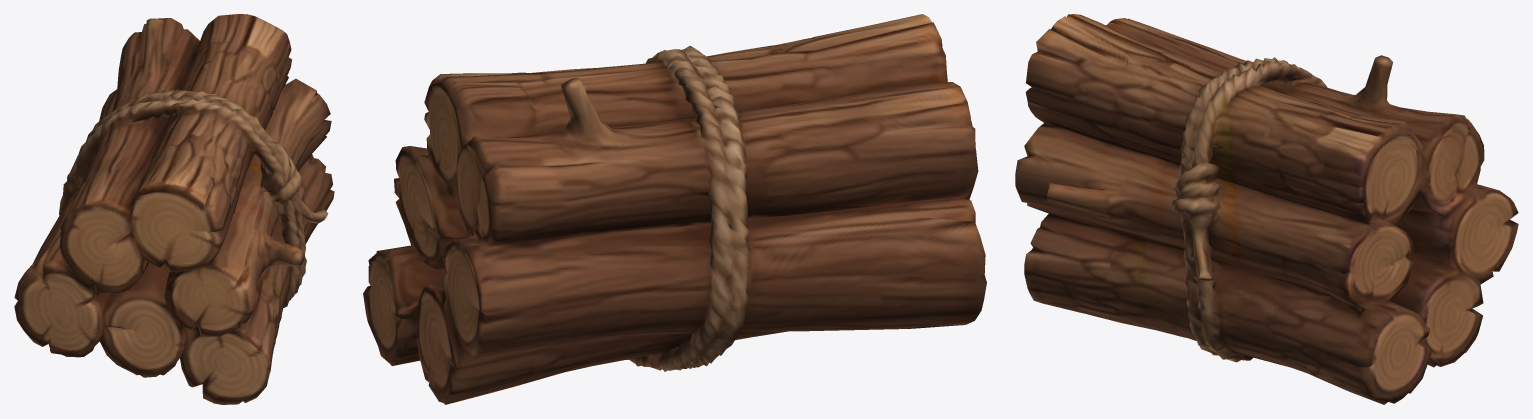
File: Maderas.glb
The picture shows the model from 3 angles, left to right: view 1: azimuth 30°, elevation 25°; view 2: azimuth 150°, elevation 25°; view 3: azimuth 270°, elevation 25°; orthographic projection. The views are drawn at different scales.
Parts seen in each view (by area): view 1: Maderas; view 2: Maderas; view 3: Maderas.
Boxes of the visible parts, bbox=[...] form: Maderas: bbox=[14, 14, 334, 404]; Maderas: bbox=[363, 14, 986, 404]; Maderas: bbox=[1015, 14, 1518, 404].
Size of the model in its own units: 0.3352 by 0.2103 by 0.3335.
1 material, 1 textured.
